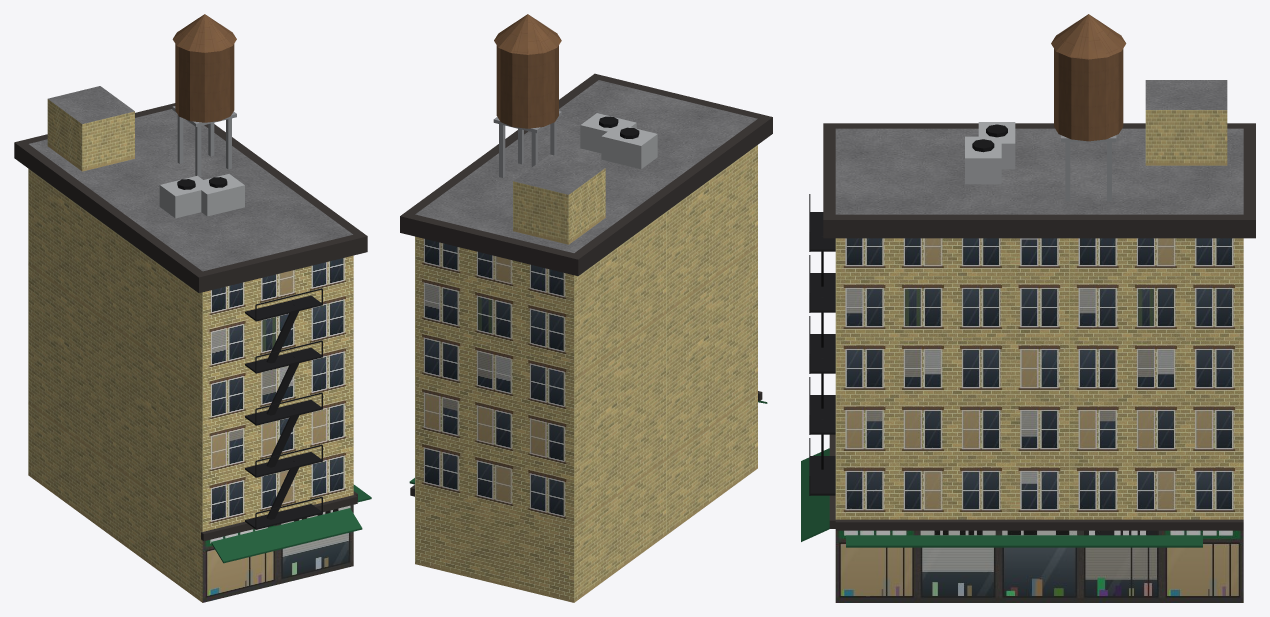
Rendered from 009_tenement_corner_yellow.glb.
The picture shows the model from 3 angles, left to right: view 1: azimuth 30°, elevation 25°; view 2: azimuth 150°, elevation 25°; view 3: azimuth 270°, elevation 25°; orthographic projection. The views are drawn at different scales.
Visible parts, largest first — view 1: 009_tenement_corner_yellow; view 2: 009_tenement_corner_yellow; view 3: 009_tenement_corner_yellow.
Boxes of the visible parts, <box> form: 009_tenement_corner_yellow: <box>14,14,371,602</box>; 009_tenement_corner_yellow: <box>400,14,772,602</box>; 009_tenement_corner_yellow: <box>801,14,1255,602</box>.
Size of the model in its own units: 12.1 by 30.6 by 22.3.
11 materials, 5 textured.
